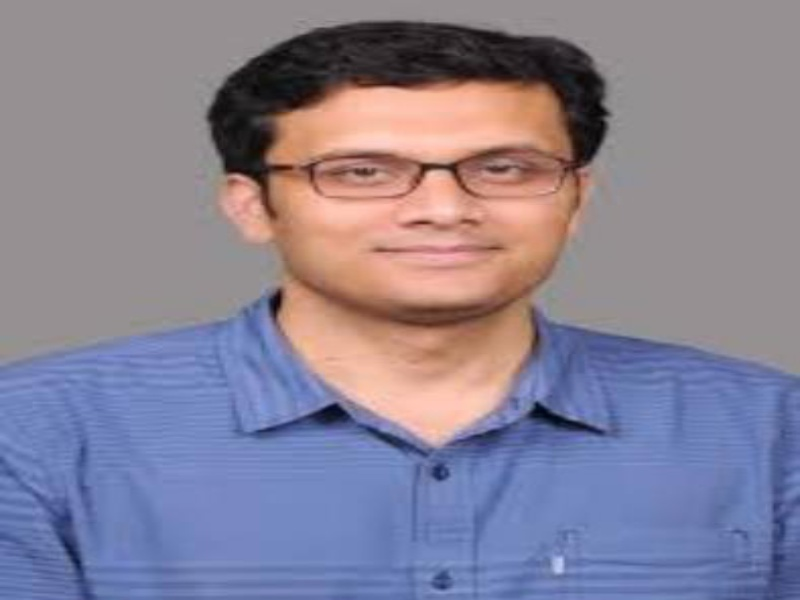TsisyArotava: (205, 10, 606, 326)
